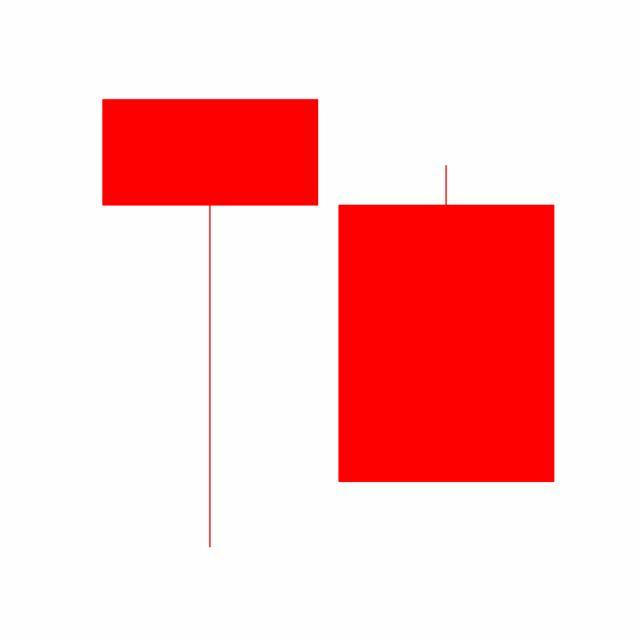Marubozu: (328, 162, 566, 486)
